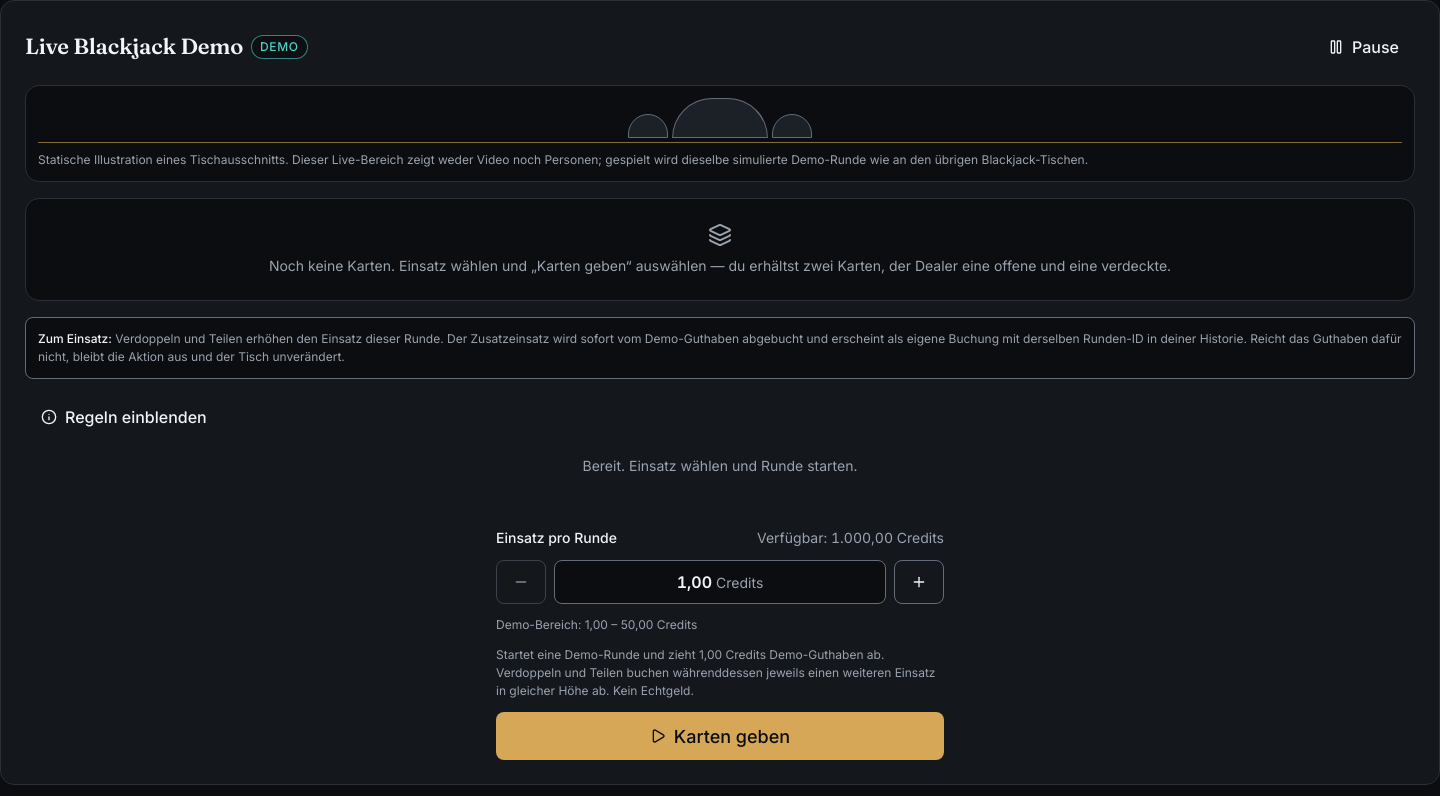
Test case: BlackjackGame — Oberfläche und Wallet-Verdrahtung › zeigt Regeln und Live-Illustration
Check: the element named "Illustration des Live-Tisches" is shown, box [25,85,1415,182]
What coordinates should you click on to do the following:
click the button "Regeln einblenden"
I would click on:
 (124, 417)
Its box is [25,395,223,439].
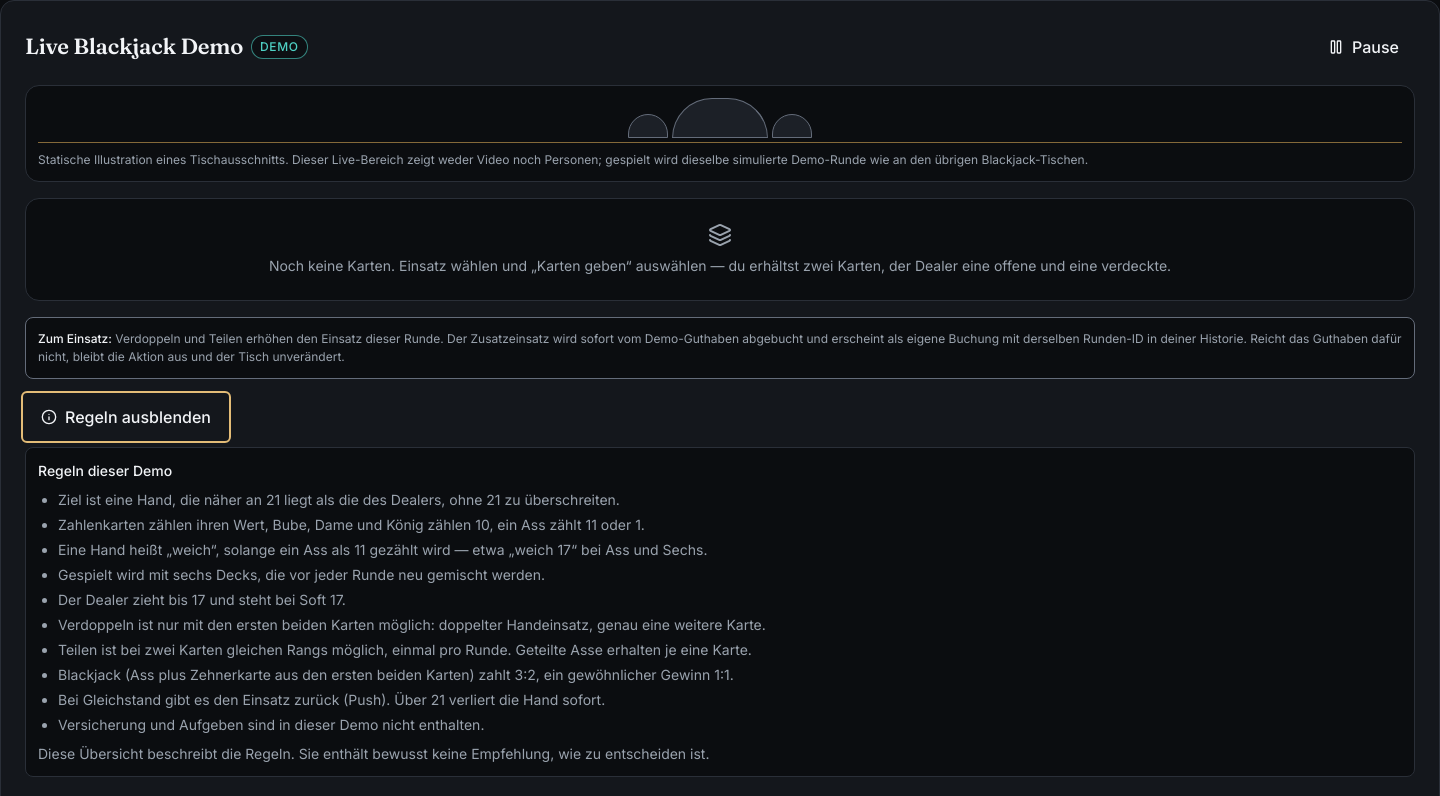
Check: the list item "Der Dealer zieht bis 17 und steht bei Soft 17." is shown, box [58,591,346,608]
